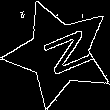N_SW: (27, 25, 91, 82)
